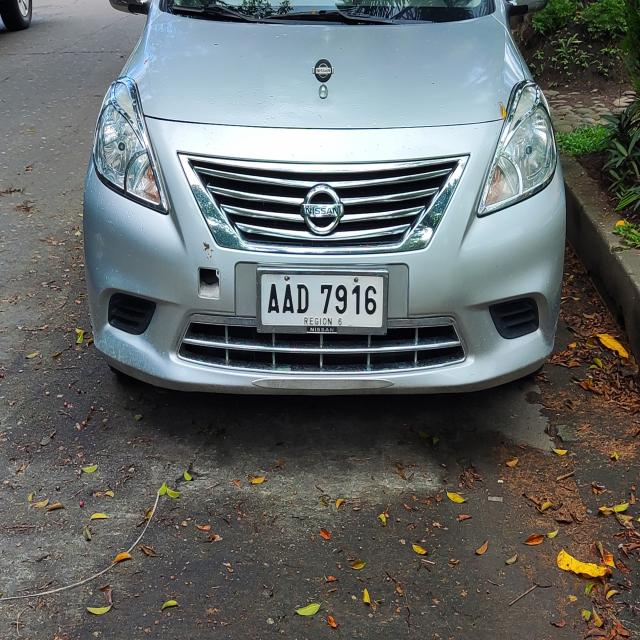plate: (256, 265, 390, 337)
